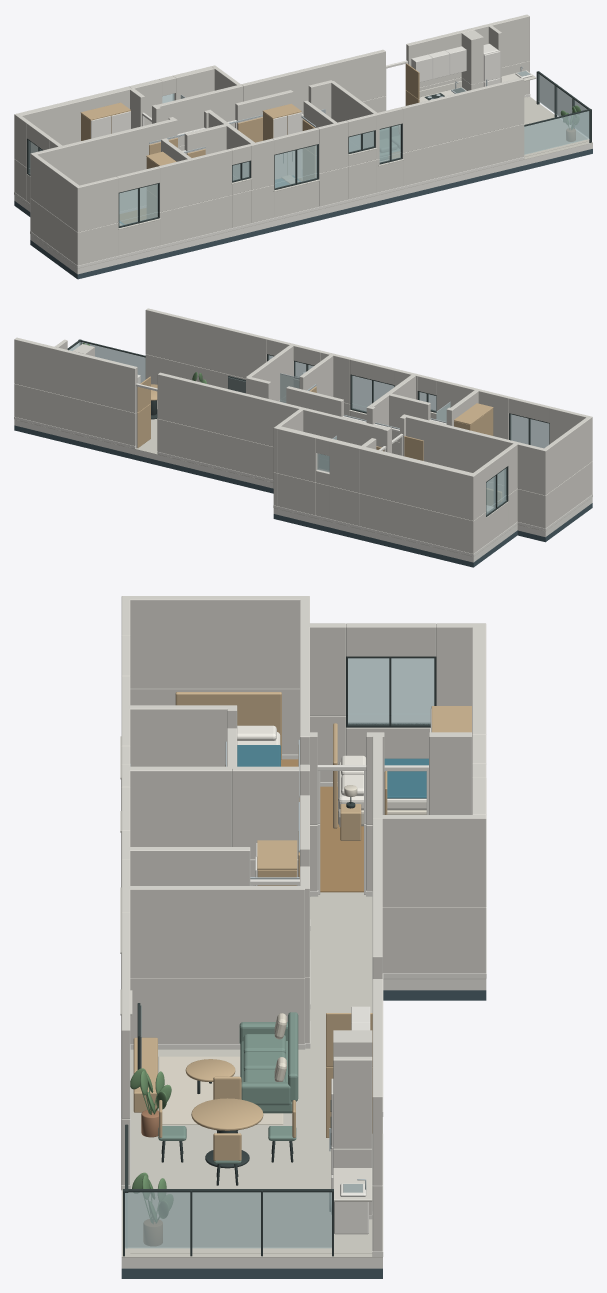
File: unidade-402.glb
3 views of the same model, one above another, from view 1: azimuth 30°, elevation 25°; view 2: azimuth 150°, elevation 25°; view 3: azimuth 270°, elevation 25° (orthographic). The views are drawn at different scales.
Parts seen in each view (by area): view 1: Fachada sul | Estar leste | superior, Suite queen | parede norte oeste | superior, Fachada sul | Estar leste | corte, Circulacao | parede norte | superior, Laje perimetral | contorno da planta, Fachada sul | Queen leste | superior, Base da maquete, Cozinha | parede norte | superior, Fachada norte | suite casal | superior, Fachada oeste | suite queen | superior, Fachada sul | Queen leste | corte, BWC casal | parede circulacao | superior (+51 smaller); view 2: Circulacao | parede norte | superior, Cozinha | parede norte | superior, Fachada norte | suite casal | superior, Fachada sul | Estar leste | superior, Suite queen | parede norte oeste | superior, Cozinha | parede norte | corte, Fachada norte | suite casal | corte, Circulacao | parede norte | corte, Laje perimetral | contorno da planta, Base da maquete, Fachada oeste | suite queen | superior, Fachada norte | banheiro casal leste | superior (+42 smaller); view 3: Piso continuo | social e circulacao, BWC solteirao | parede estar | superior, Fachada oeste | suite queen | superior, Faixa externa | piso, Guarda-corpo leste | vidro, BWC solteirao | parede estar | corte, BWC casal | fachada leste | superior, Divisa queen / solteirao | superior, BWC casal | fachada leste | corte, BWC queen | parede oeste | superior, Suite queen | parede retorno hall | superior, J1 | vidro | superior (+34 smaller).
Part boxes in pixels (x1,y1,x2,y2): Fachada sul | Estar leste | superior: (401, 77, 524, 152); Suite queen | parede norte oeste | superior: (30, 118, 177, 198); Fachada sul | Estar leste | corte: (402, 124, 524, 186); Circulacao | parede norte | superior: (241, 49, 385, 114); Laje perimetral | contorno da planta: (14, 143, 592, 274); Fachada sul | Queen leste | superior: (158, 149, 231, 212); Base da maquete: (14, 149, 592, 279); Cozinha | parede norte | superior: (406, 14, 529, 87); Fachada norte | suite casal | superior: (14, 86, 131, 160); Fachada oeste | suite queen | superior: (31, 153, 81, 232); Fachada sul | Queen leste | corte: (159, 195, 231, 245); BWC casal | parede circulacao | superior: (155, 85, 243, 146); Circulacao | parede norte | superior: (157, 372, 301, 446); Cozinha | parede norte | superior: (14, 337, 137, 412); Fachada norte | suite casal | superior: (359, 446, 476, 520); Fachada sul | Estar leste | superior: (145, 308, 268, 378); Suite queen | parede norte oeste | superior: (402, 414, 547, 495); Cozinha | parede norte | corte: (14, 383, 135, 445); Fachada norte | suite casal | corte: (359, 493, 476, 553); Circulacao | parede norte | corte: (157, 419, 273, 479); Laje perimetral | contorno da planta: (14, 420, 592, 562); Base da maquete: (14, 425, 592, 567); Fachada oeste | suite queen | superior: (544, 416, 592, 493); Fachada norte | banheiro casal leste | superior: (277, 426, 318, 482); Piso continuo | social e circulacao: (121, 892, 485, 1257); BWC solteirao | parede estar | superior: (121, 886, 304, 978); Fachada oeste | suite queen | superior: (121, 596, 304, 688); Faixa externa | piso: (130, 1192, 372, 1253); Guarda-corpo leste | vidro: (125, 1192, 331, 1248); BWC solteirao | parede estar | corte: (130, 978, 304, 1044); BWC casal | fachada leste | superior: (378, 815, 486, 907); Divisa queen / solteirao | superior: (121, 766, 231, 846); BWC casal | fachada leste | corte: (382, 907, 486, 973); BWC queen | parede oeste | superior: (121, 705, 235, 766); Suite queen | parede retorno hall | superior: (232, 766, 299, 859); J1 | vidro | superior: (348, 658, 434, 714).
Bounding box in the file's own units: 18.12 × 3.07 × 5.6.
